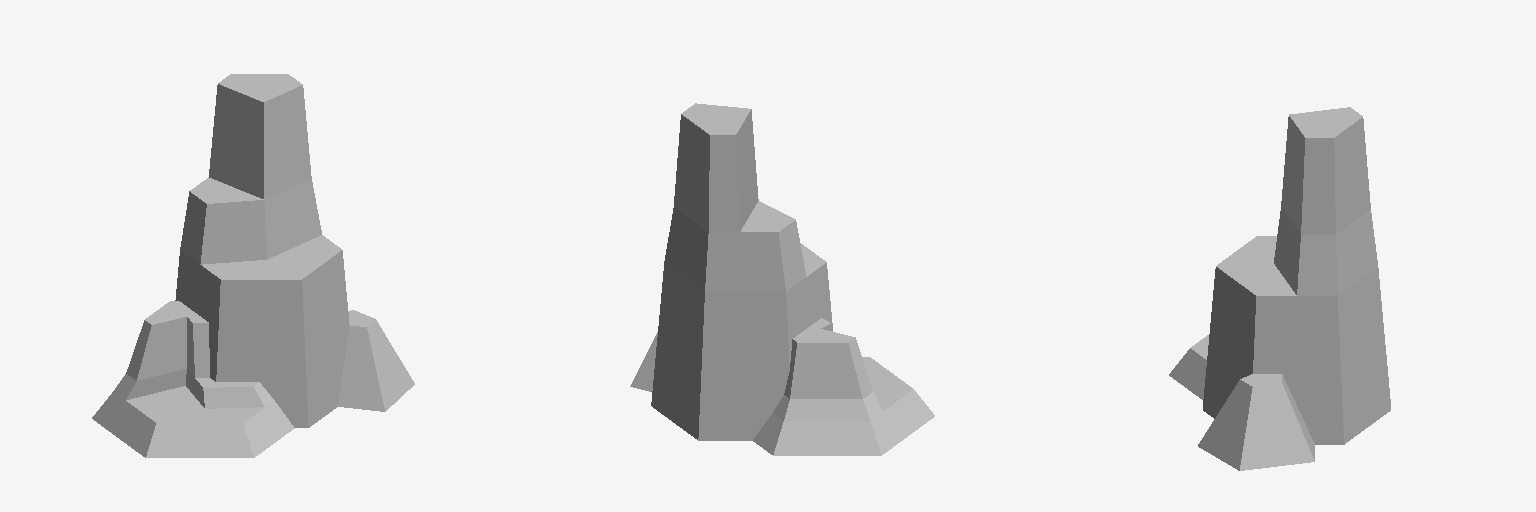
File: rock_tallA.obj
3 renders of one model, left to right at view 1: azimuth 30°, elevation 25°; view 2: azimuth 150°, elevation 25°; view 3: azimuth 270°, elevation 25°, orthographic.
Visible parts, largest first — view 1: rock_tallA; view 2: rock_tallA; view 3: rock_tallA.
Part boxes in pixels (bbox=[...]): rock_tallA: bbox=[92, 74, 414, 457]; rock_tallA: bbox=[630, 103, 934, 455]; rock_tallA: bbox=[1169, 107, 1390, 470].
Size of the model in its own units: 0.9831 by 0.9959 by 0.6832.